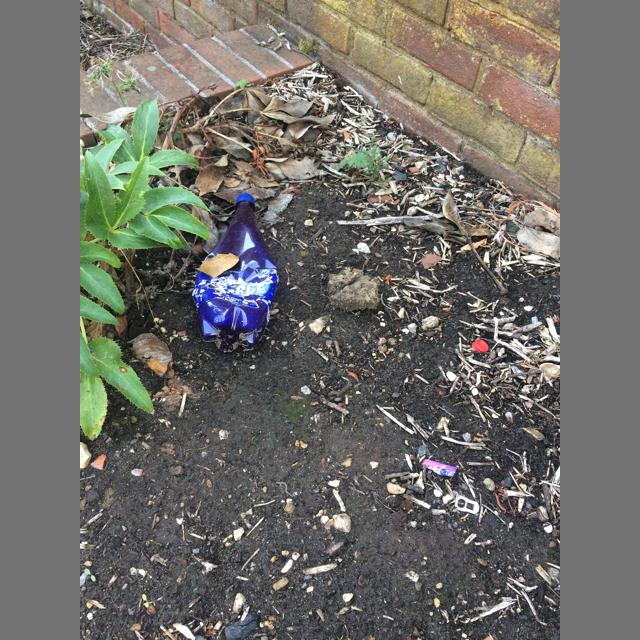litter: (192, 193, 280, 353), (423, 459, 457, 477), (455, 495, 480, 514), (236, 193, 255, 204), (472, 339, 488, 352)
